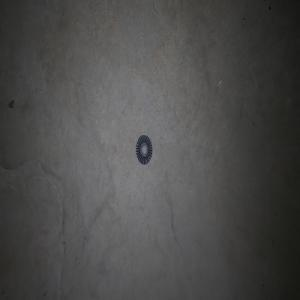Washer: (135, 134, 152, 164)
